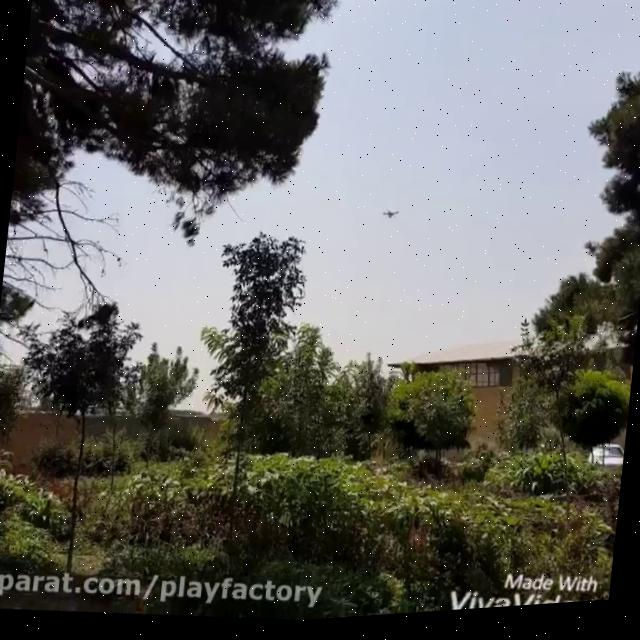drone: (376, 207, 404, 229)
